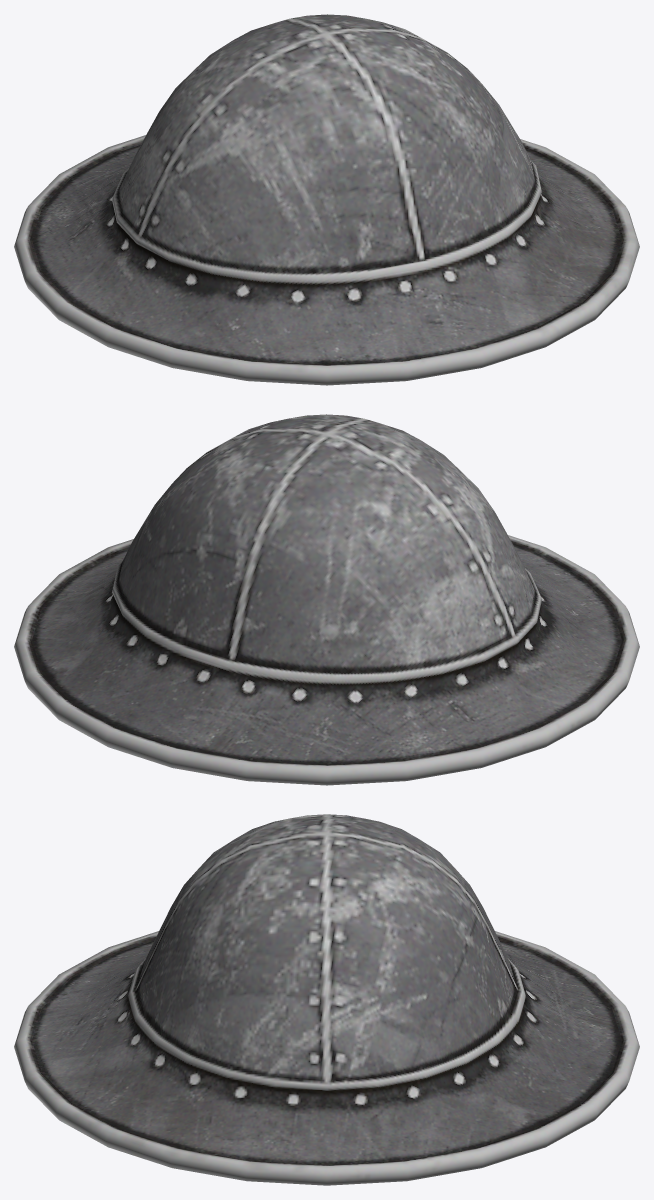
File: Chapelle_02.fbx
3 views of the same model, one above another, from view 1: azimuth 30°, elevation 25°; view 2: azimuth 150°, elevation 25°; view 3: azimuth 270°, elevation 25° (orthographic).
Visible parts, largest first — view 1: Chapelle_02_LOD0; view 2: Chapelle_02_LOD0; view 3: Chapelle_02_LOD0.
Part boxes in pixels (x1,y1,x2,y2): Chapelle_02_LOD0: [14, 14, 639, 385]; Chapelle_02_LOD0: [14, 414, 639, 785]; Chapelle_02_LOD0: [14, 814, 639, 1185].
Size of what is drawn, in the model's own units: 33.28 by 13.02 by 33.28.
